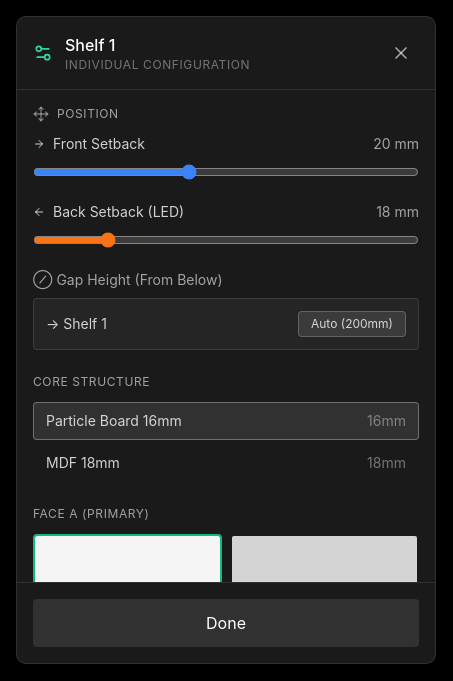
Scenario: PanelConfigModal › position controls (shelves/dividers) › should update front setback when slider changes
Set the slider below "Front Setback" to "30" at (263, 172), box x1=33 y1=164 x2=419 y2=180
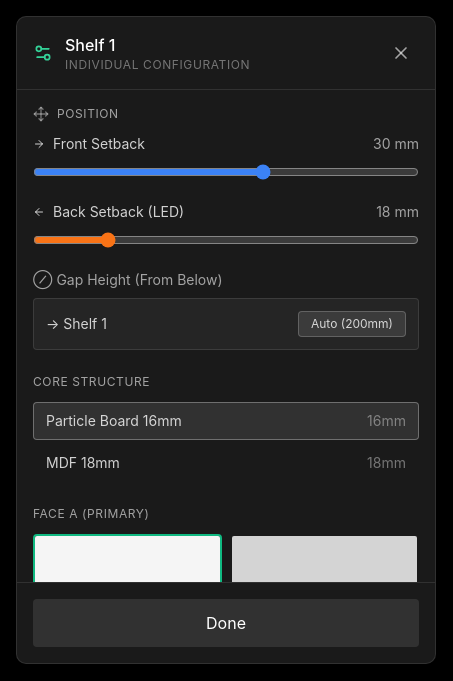
Result: the text "30 mm" is shown at x1=373 y1=134 x2=419 y2=154
